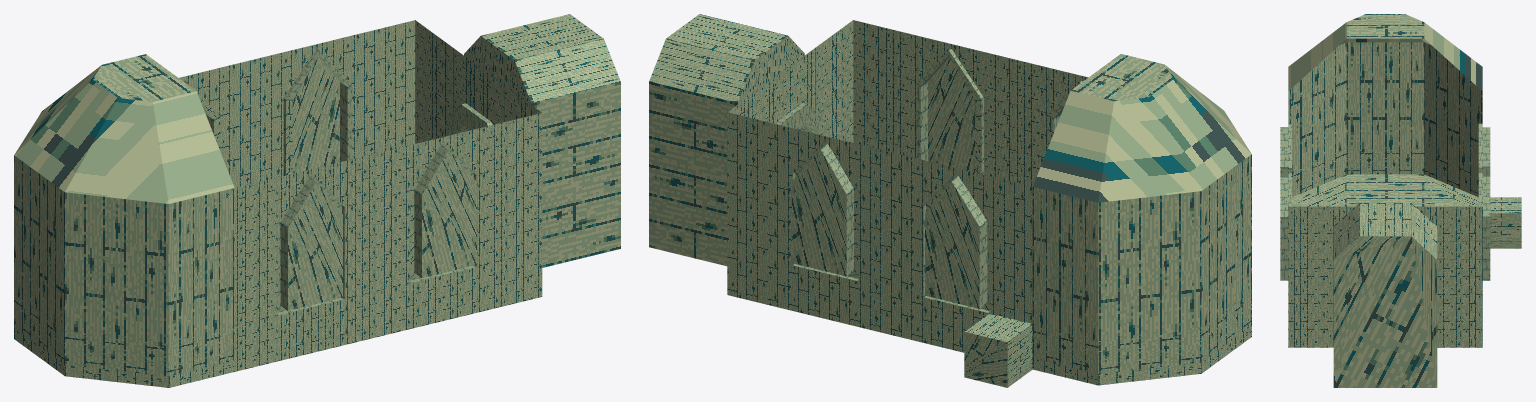
The model's file is Church.fbx.
3 views of the same model, side by side, from view 1: azimuth 30°, elevation 25°; view 2: azimuth 150°, elevation 25°; view 3: azimuth 270°, elevation 25° (orthographic). The views are drawn at different scales.
Parts seen in each view (by area): view 1: Church; view 2: Church; view 3: Church.
Boxes of the visible parts, x1,y1,x2,y2 form: Church: [14, 14, 620, 387]; Church: [649, 14, 1251, 387]; Church: [1280, 14, 1521, 387].
Size of what is drawn, in the model's own units: 2493 by 1100 by 1240.
